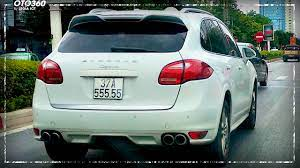Car number plates: (93, 76, 123, 99)
